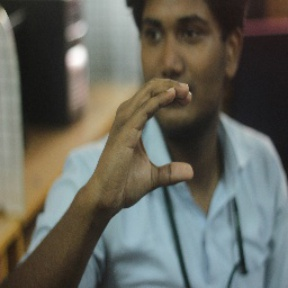C: (108, 78, 202, 193)
